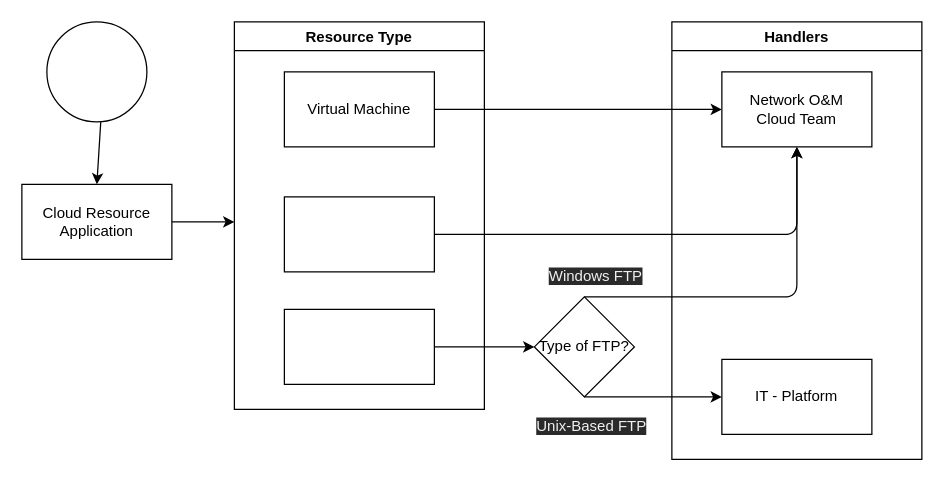
Some shapes in this 944 by 481 pixel diagram are drawn without their labels. Each missing label, with the box of its shape:
File Server: (283, 308, 434, 384)
Physical Machine: (283, 196, 434, 272)
Start: (46, 21, 147, 122)
